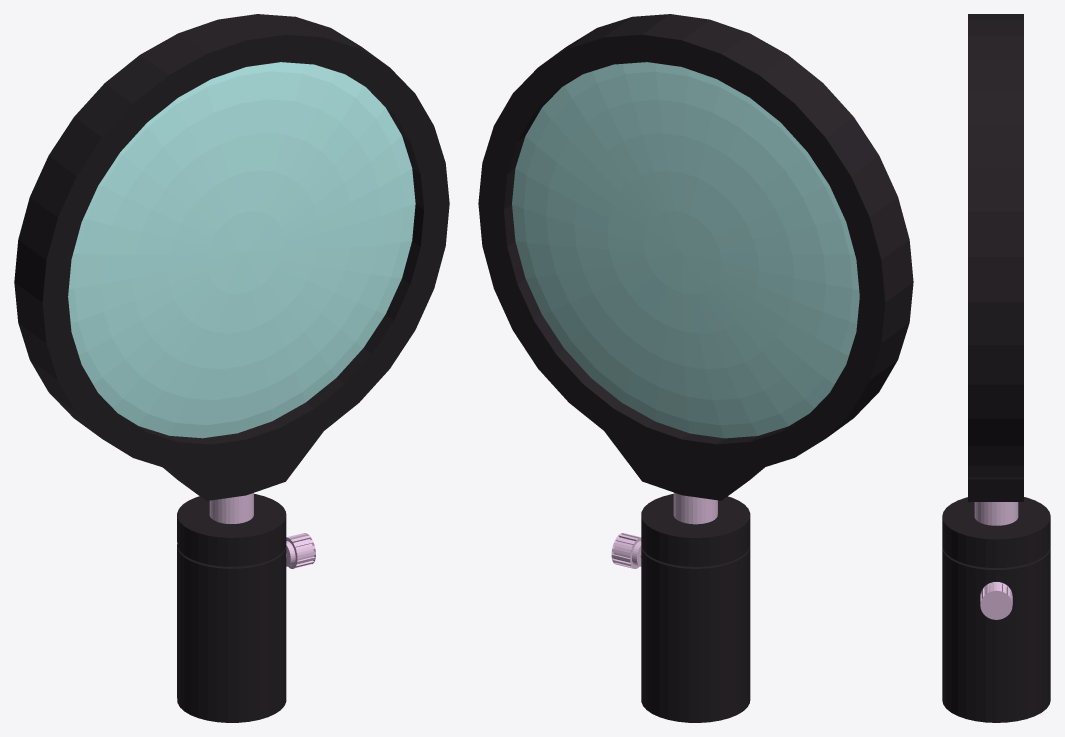
Rendered from lens.glb.
The picture shows the model from 3 angles, left to right: view 1: azimuth 30°, elevation 25°; view 2: azimuth 150°, elevation 25°; view 3: azimuth 270°, elevation 25°; orthographic projection.
Visible parts, largest first — view 1: 球, 円, 円柱, 円柱.001, 円柱.003; view 2: 球, 円, 円柱, 円柱.001, 円柱.003; view 3: 円, 円柱, 円柱.003, 円柱.001.
Boxes of the visible parts, bbox=[...] form: 球: bbox=[68, 62, 415, 438]; 円: bbox=[14, 14, 449, 500]; 円柱: bbox=[177, 494, 286, 722]; 円柱.001: bbox=[209, 493, 253, 523]; 円柱.003: bbox=[286, 533, 315, 568]; 球: bbox=[512, 62, 859, 438]; 円: bbox=[478, 14, 913, 500]; 円柱: bbox=[641, 494, 750, 722]; 円柱.001: bbox=[673, 492, 717, 524]; 円柱.003: bbox=[611, 533, 641, 568]; 円: bbox=[968, 14, 1023, 501]; 円柱: bbox=[942, 497, 1050, 722]; 円柱.003: bbox=[980, 582, 1012, 619]; 円柱.001: bbox=[974, 502, 1018, 525].
Bounding box in the file's own units: 5.99 × 9.43 × 1.4.
